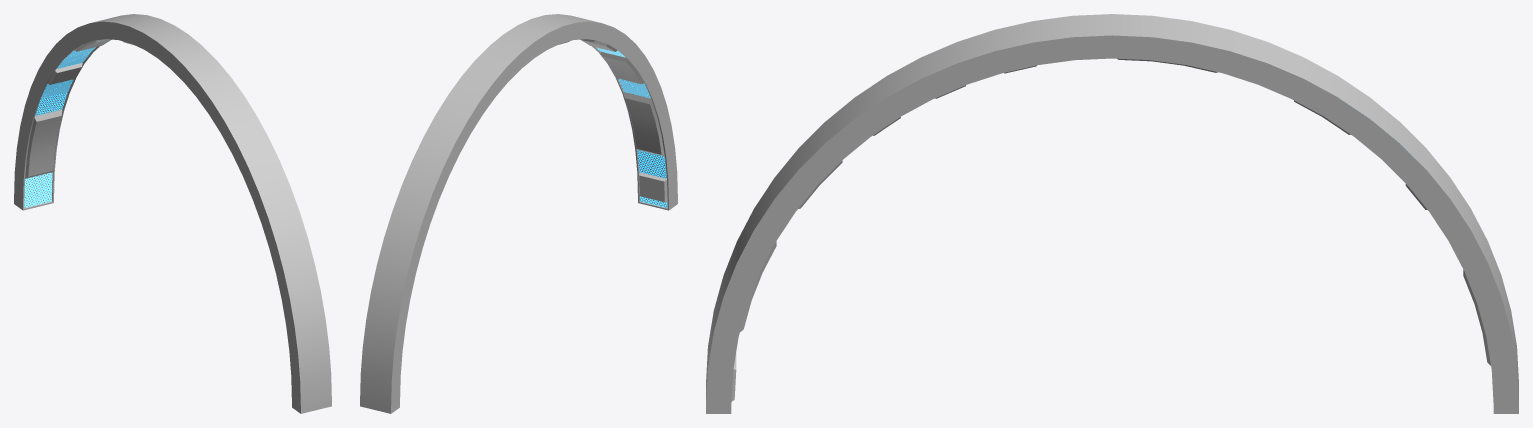
The model's file is SM_TunnelE1.fbx.
3 renders of one model, left to right at view 1: azimuth 30°, elevation 25°; view 2: azimuth 150°, elevation 25°; view 3: azimuth 270°, elevation 25°, orthographic. The views are drawn at different scales.
Visible parts, largest first — view 1: SM_TunnelE1_LOD0; view 2: SM_TunnelE1_LOD0; view 3: SM_TunnelE1_LOD0.
Boxes of the visible parts, x1=… form: SM_TunnelE1_LOD0: x1=14, y1=14, x2=331, y2=413; SM_TunnelE1_LOD0: x1=360, y1=14, x2=677, y2=413; SM_TunnelE1_LOD0: x1=706, y1=14, x2=1518, y2=413.
Size of the model in its own units: 100 by 1600 by 822.
